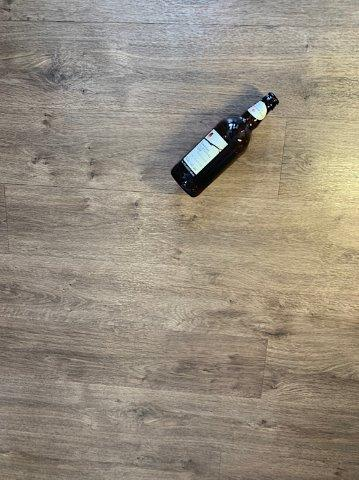botolkaca: (172, 93, 279, 197)
